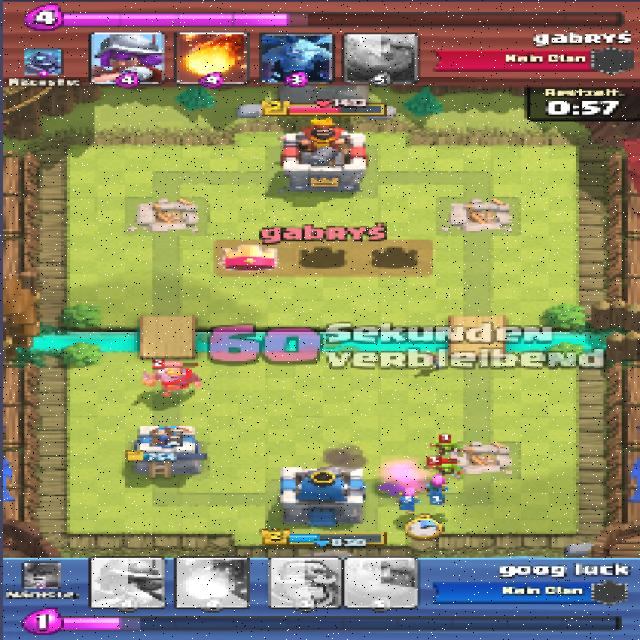Enemy-Goblin: (424, 458, 464, 479), (430, 438, 459, 458)
Enemy-Knight: (140, 365, 203, 394)
Player-Archer: (426, 475, 449, 504), (393, 487, 420, 511)
